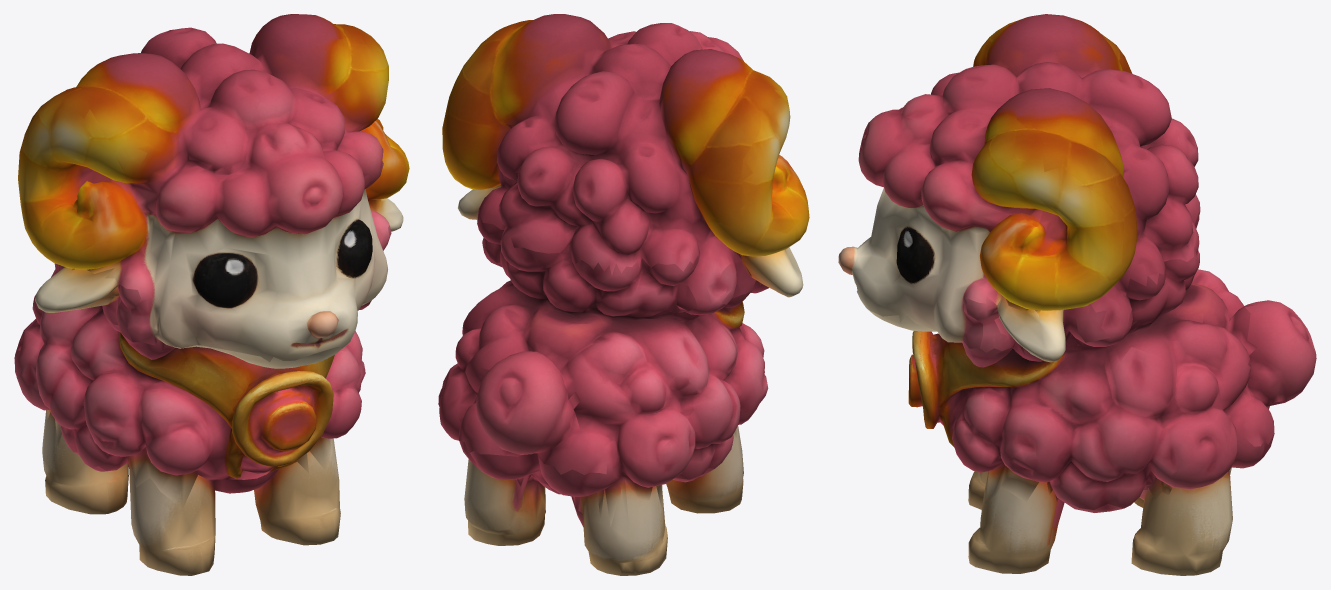
File: dunehorn_ram_rig.glb
3 views of the same model, side by side, from view 1: azimuth 30°, elevation 25°; view 2: azimuth 150°, elevation 25°; view 3: azimuth 270°, elevation 25° (orthographic). The views are drawn at different scales.
Parts seen in each view (by area): view 1: Head, Body, LegFR, LegFL, LegBR, EarR, EarL; view 2: Head, Body, Tail, LegBR, LegBL, LegFR, EarR, EarL; view 3: Head, Body, LegBL, Tail, LegFL, EarL.
Part boxes in pixels (x1,y1,x2,y2): Head: [18, 14, 409, 362]; Body: [14, 264, 371, 508]; LegFR: [92, 459, 256, 575]; LegFL: [249, 438, 340, 545]; LegBR: [42, 410, 128, 514]; EarR: [35, 267, 140, 341]; EarL: [377, 198, 403, 243]; Head: [442, 14, 809, 315]; Body: [438, 216, 768, 538]; Tail: [458, 351, 606, 474]; LegBR: [548, 467, 714, 575]; LegBL: [464, 459, 556, 545]; LegFR: [666, 426, 743, 513]; EarR: [718, 247, 803, 304]; EarL: [458, 188, 494, 219]; Head: [838, 14, 1200, 356]; Body: [867, 212, 1274, 509]; LegBL: [1075, 470, 1232, 575]; Tail: [1243, 300, 1316, 446]; LegFL: [968, 471, 1079, 573]; EarL: [966, 296, 1109, 362].
Bounding box in the file's own units: 0.7782 × 1 × 0.9168.
1 material, 1 textured.
